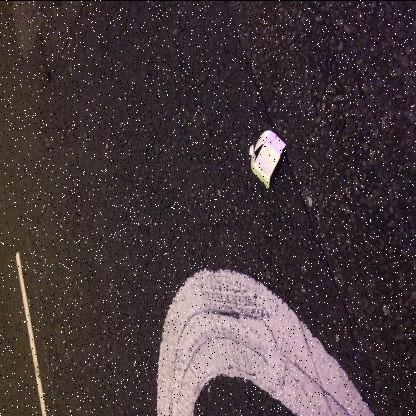foam: (249, 128, 286, 188)
